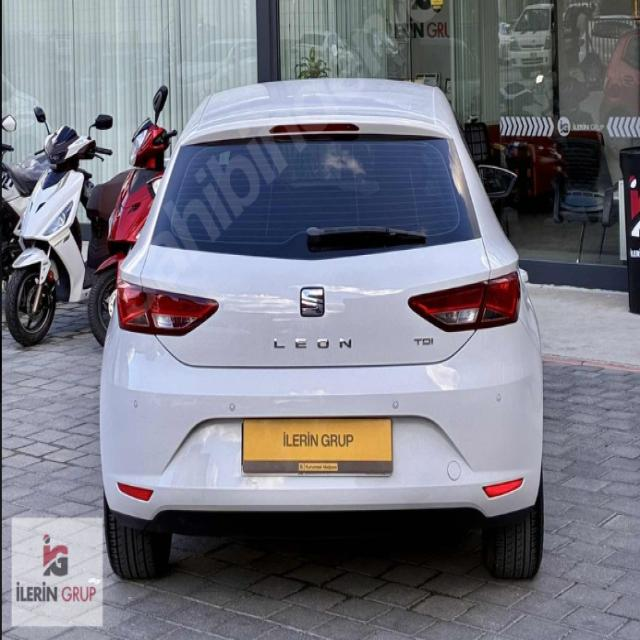seat: (297, 283, 328, 322)
